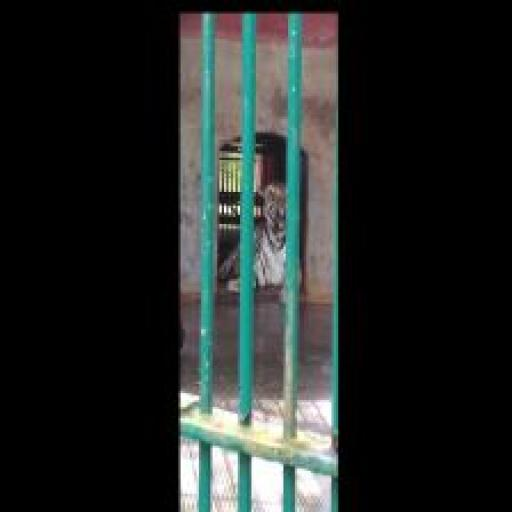Tiger: (220, 151, 306, 302)
